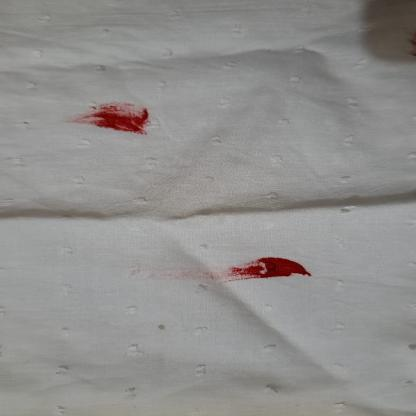spot: (75, 96, 163, 137), (230, 256, 324, 282), (133, 266, 237, 284)
